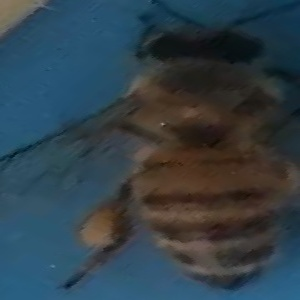bee: (70, 8, 297, 299)
